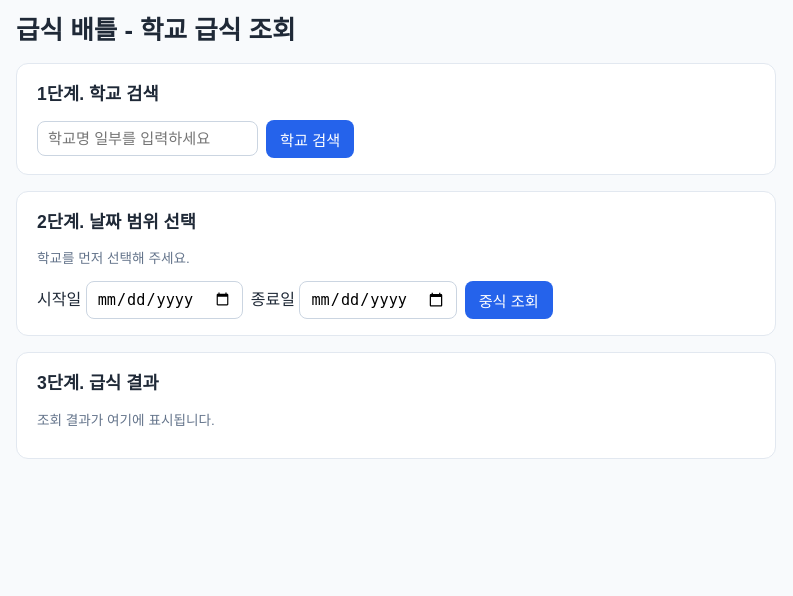
Scenario: 급식 배틀 앱 › 시작일이 종료일보다 늦으면 오류를 표시하고 조회하지 않는다
The image size is (793, 596).
In the field named "학교명 검색어": (148, 139) x1=37 y1=121 x2=258 y2=156, type "서울고"
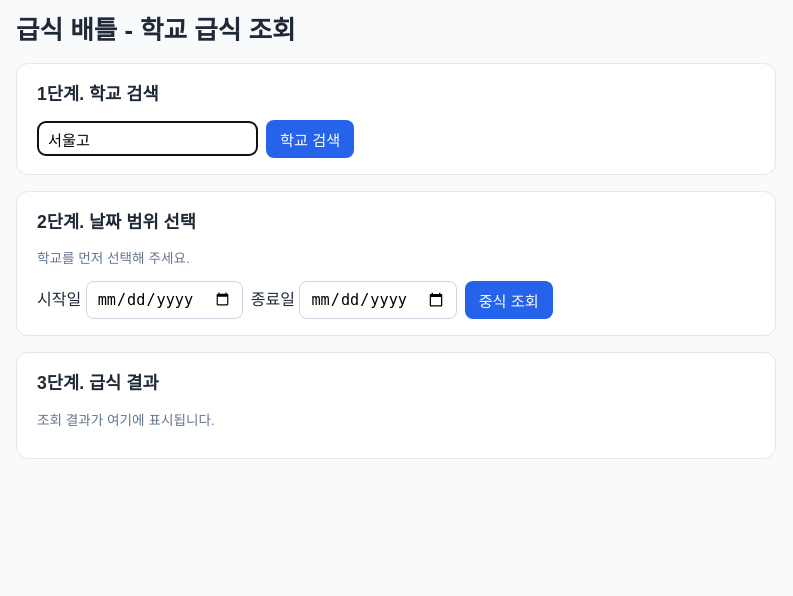
Click the button "학교 검색": (310, 139) x1=266 y1=120 x2=354 y2=158
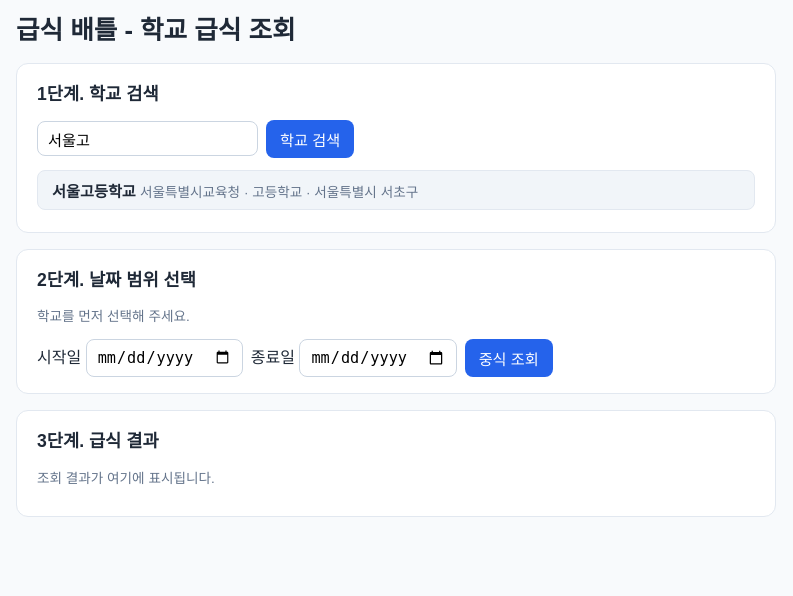
Click the button "서울고등학교 서울특별시교육청 · 고등학교 · 서울특별시 서초구": (396, 190) x1=37 y1=170 x2=755 y2=210
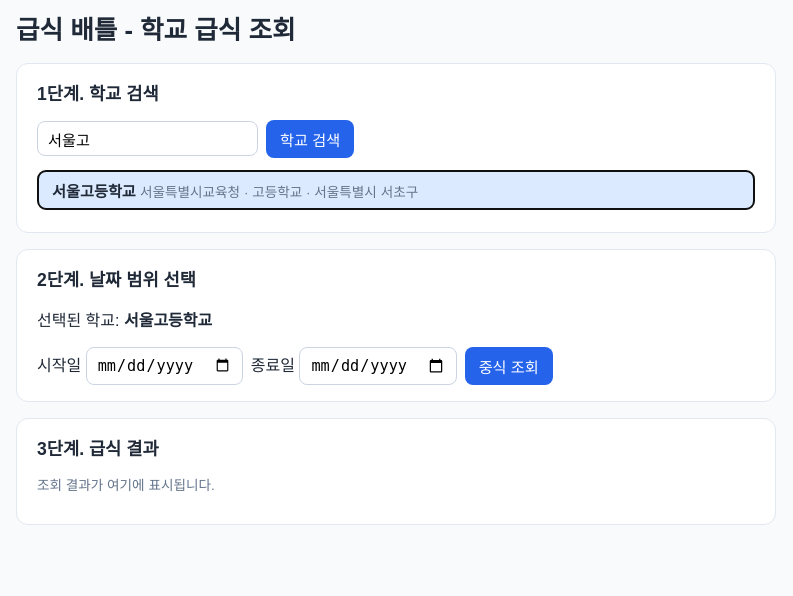
In the date field labelled "시작일": (164, 366) x1=86 y1=347 x2=243 y2=385, type "2026-08-20"
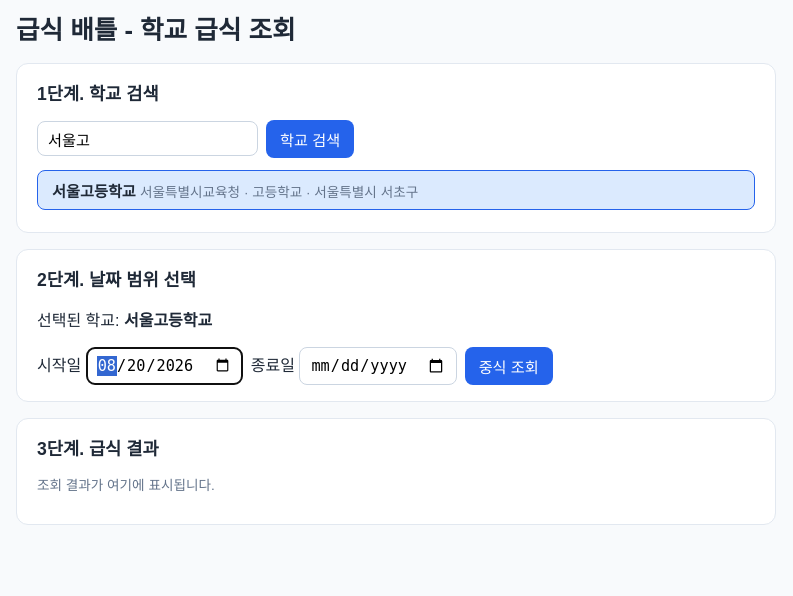
In the date field labelled "종료일": (378, 366) x1=299 y1=347 x2=457 y2=385, type "2026-08-14"
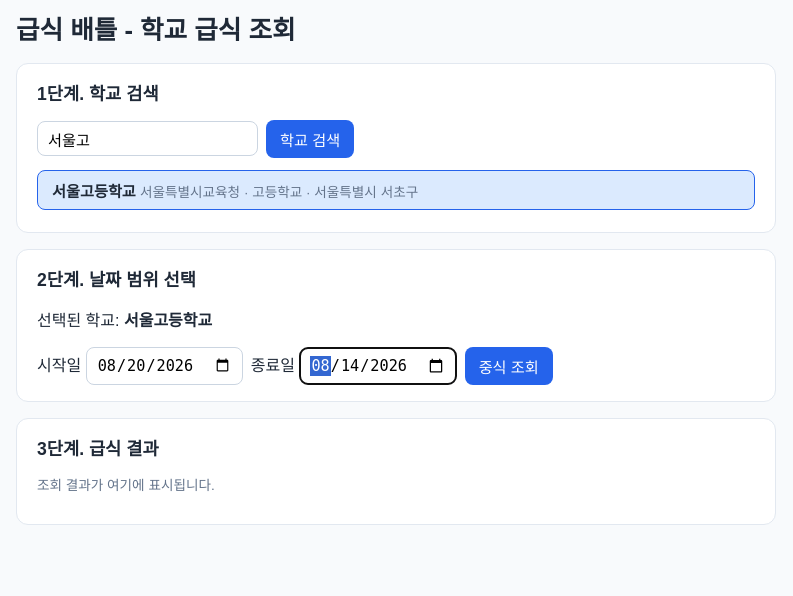
Click the button "중식 조회": (509, 366) x1=465 y1=347 x2=553 y2=385
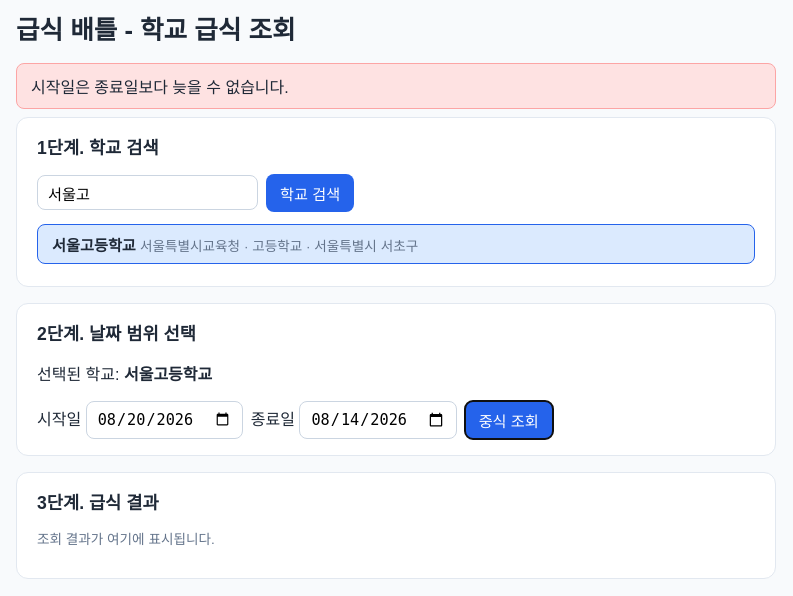
Expected: the message reads "시작일은 종료일보다 늦을 수 없습니다.", x1=31 y1=79 x2=289 y2=96
